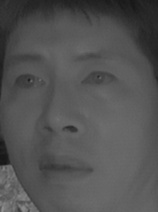eye: (78, 67, 121, 90), (8, 70, 48, 93)
mouth: (35, 149, 98, 186)
